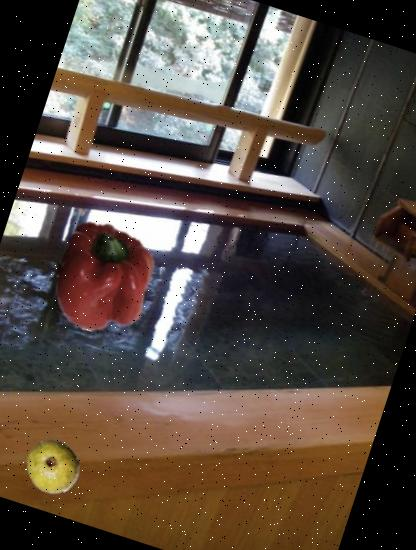Guava: (16, 431, 88, 503)
Pepper: (33, 209, 172, 348)
